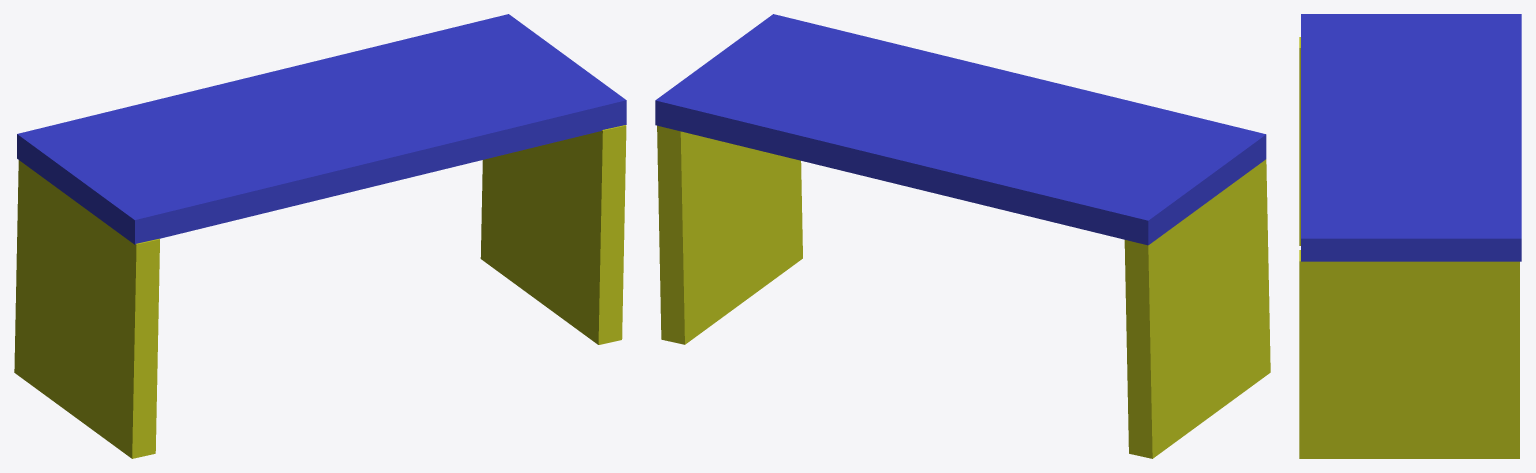
Rendered from table.dae.
The picture shows the model from 3 angles, left to right: view 1: azimuth 30°, elevation 25°; view 2: azimuth 150°, elevation 25°; view 3: azimuth 270°, elevation 25°; orthographic projection. The views are drawn at different scales.
Visible parts, largest first — view 1: Cube, Cube_002_001, Cube_002; view 2: Cube, Cube_002_001, Cube_002; view 3: Cube, Cube_002, Cube_002_001.
Part boxes in pixels (bbox=[...]): Cube: bbox=[17, 14, 626, 244]; Cube_002_001: bbox=[14, 160, 159, 458]; Cube_002: bbox=[480, 125, 626, 344]; Cube: bbox=[655, 14, 1266, 245]; Cube_002_001: bbox=[1124, 159, 1270, 458]; Cube_002: bbox=[657, 125, 802, 344]; Cube: bbox=[1301, 14, 1521, 261]; Cube_002: bbox=[1299, 250, 1519, 458]; Cube_002_001: bbox=[1299, 37, 1300, 245].
Bounding box in the file's own units: 4.86 × 2.01 × 2.23.
